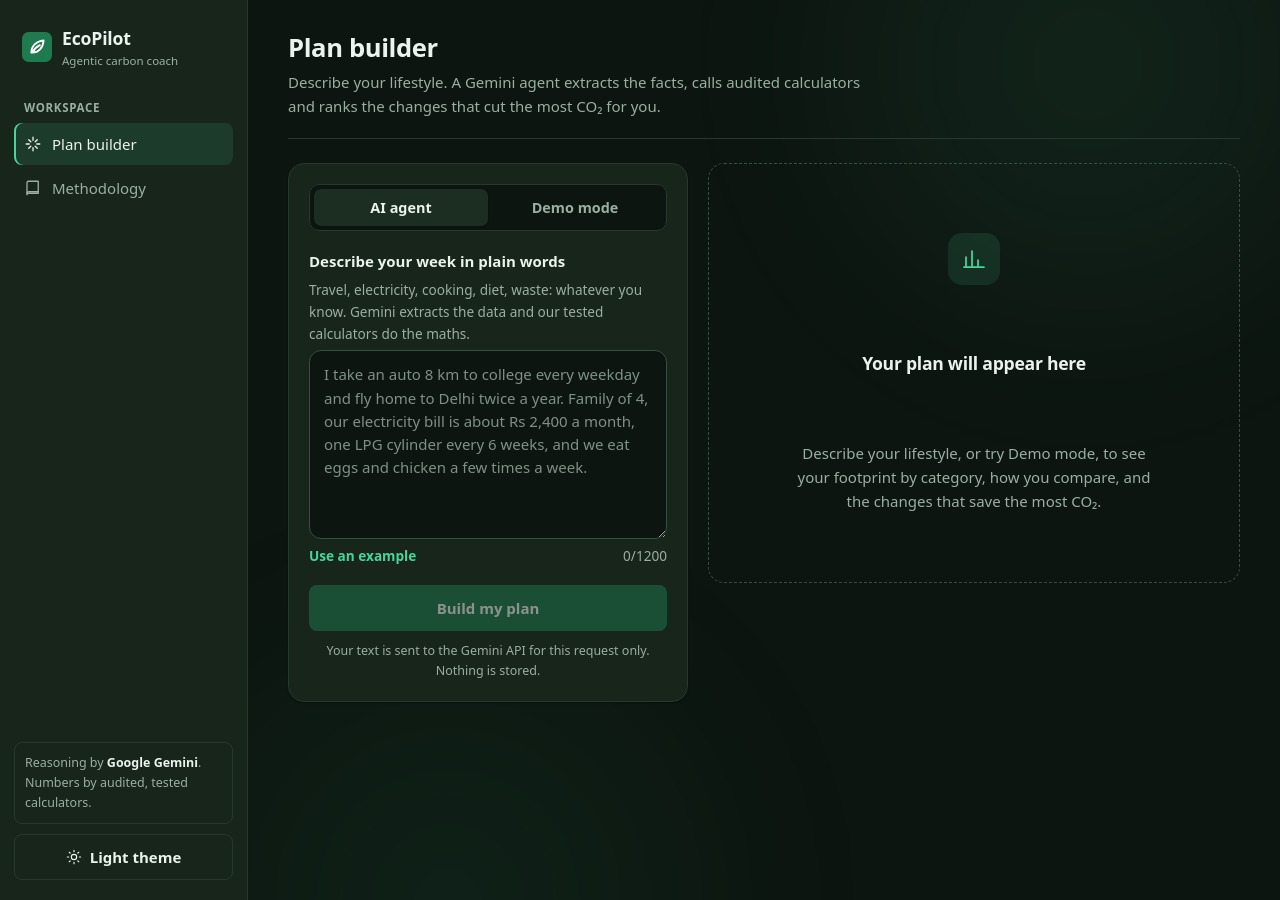
Scenario: App › announces server errors and suggests demo mode
Click the button "Use an example".
click(363, 556)  # box [309,545,416,567]
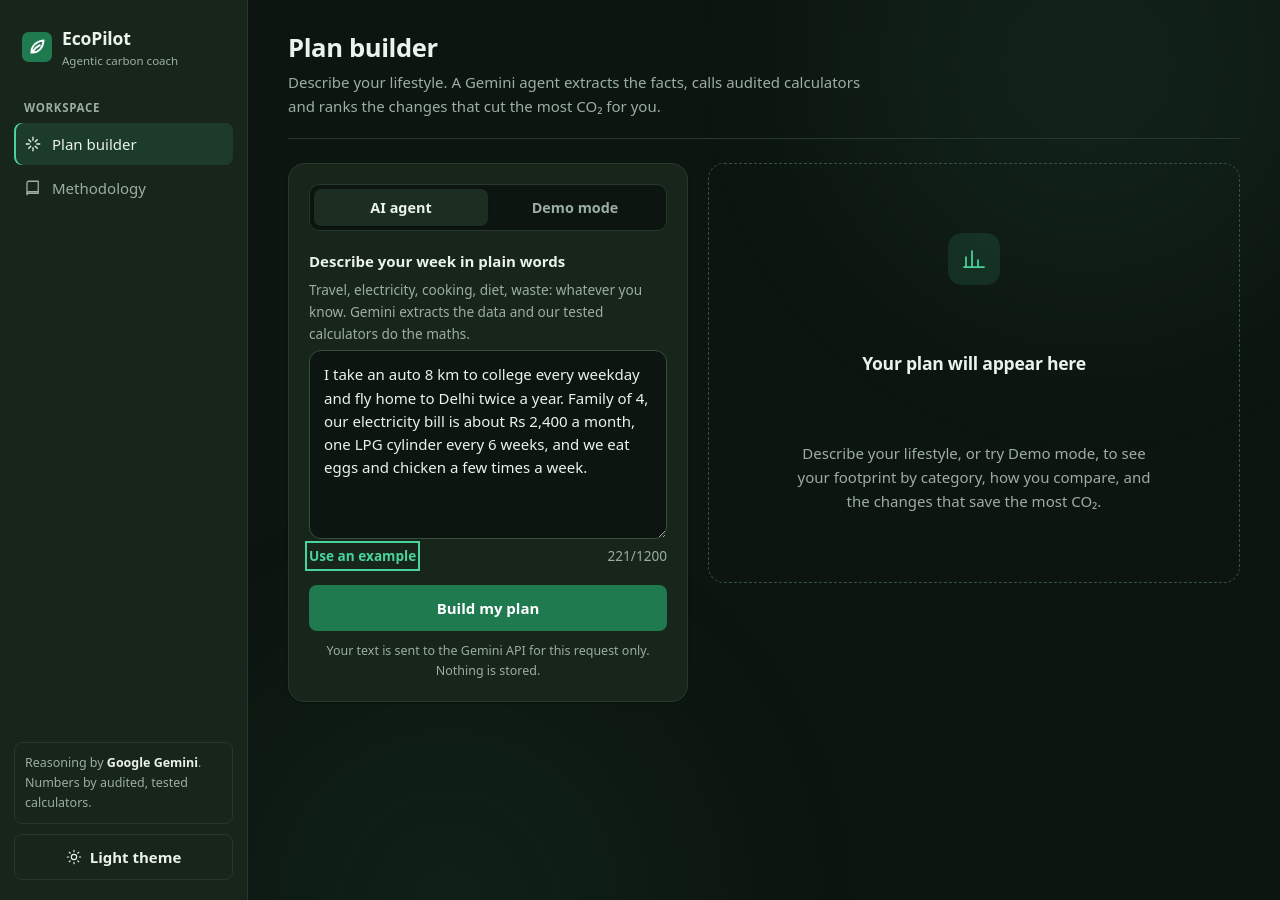
Click the button "Build my plan".
click(488, 608)  # box [309,585,667,631]
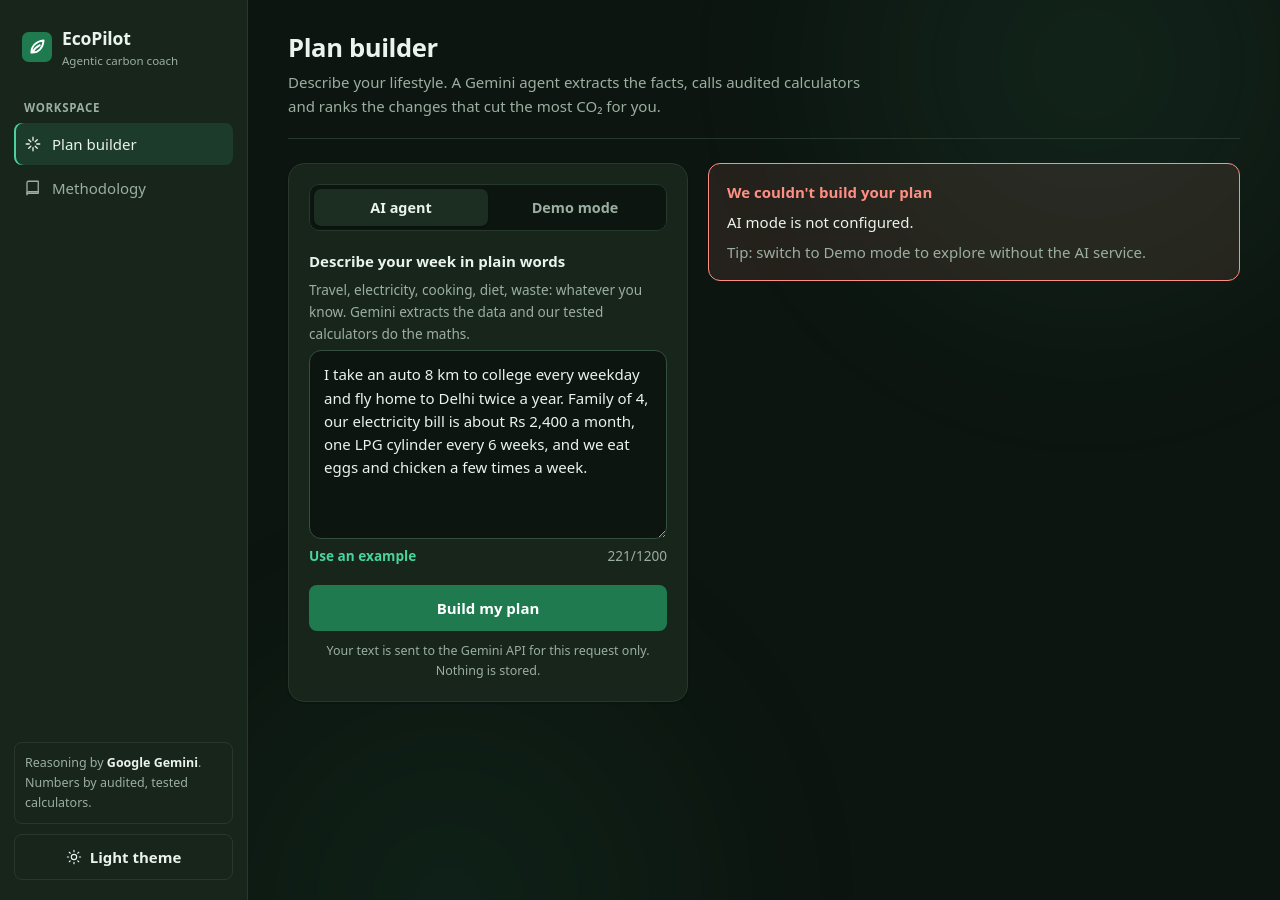
Expected: the message shows "AI mode is not configured.", [727,212,914,232]
Expected: the message shows "Demo mode", [727,242,1146,262]
